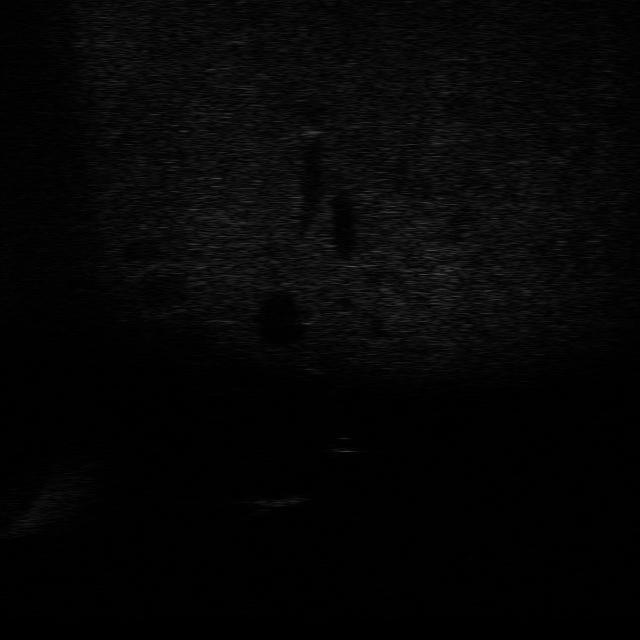ball: (325, 433, 363, 458)
human body: (295, 345, 345, 401)
square cage: (244, 484, 312, 522)
